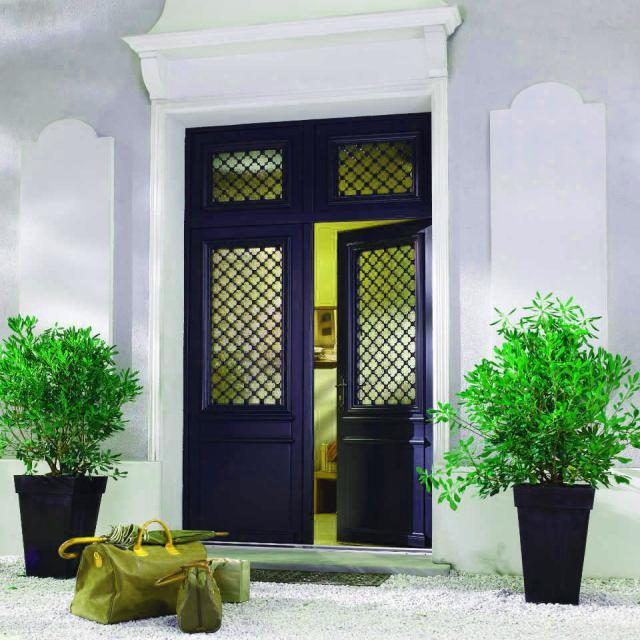door: (176, 219, 312, 555), (313, 218, 437, 558)
